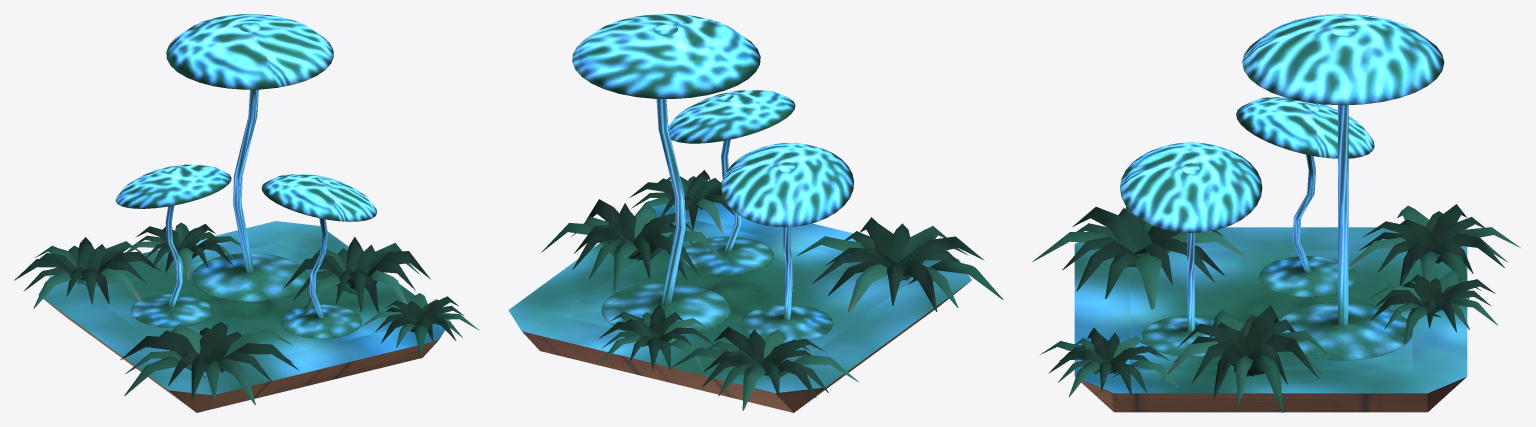
File: mushroom_platform.glb
3 views of the same model, side by side, from view 1: azimuth 30°, elevation 25°; view 2: azimuth 150°, elevation 25°; view 3: azimuth 270°, elevation 25° (orthographic). The views are drawn at different scales.
Visible parts, largest first — view 1: platform.001; view 2: platform.001; view 3: platform.001.
Boxes of the visible parts, bbox=[...] form: platform.001: bbox=[14, 14, 479, 412]; platform.001: bbox=[508, 14, 1003, 412]; platform.001: bbox=[1032, 14, 1520, 412].
Bounding box in the file's own units: 1.24 × 0.945 × 1.25.
1 material, 1 textured.
